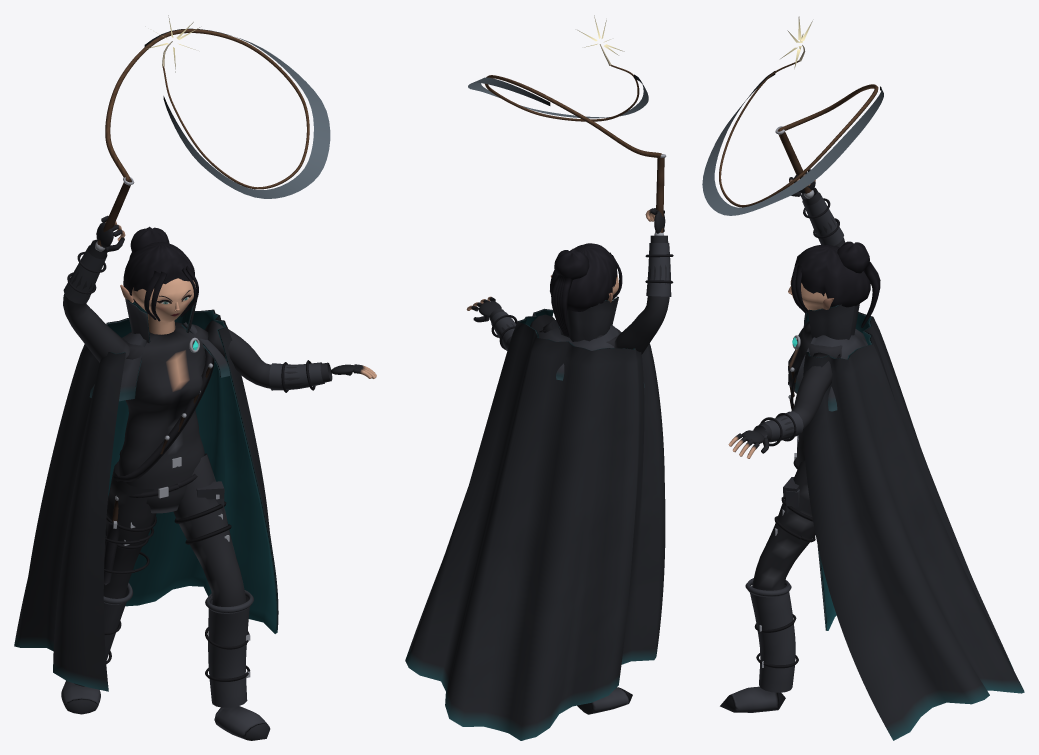
The model's file is rogue.glb.
3 renders of one model, left to right at view 1: azimuth 30°, elevation 25°; view 2: azimuth 150°, elevation 25°; view 3: azimuth 270°, elevation 25°, orthographic. The views are drawn at different scales.
Parts seen in each view (by area): view 1: rogue-body, rogue-fx, rogue-face, rogue-metal; view 2: rogue-body, rogue-fx; view 3: rogue-body, rogue-fx.
Part boxes in pixels (<box>): rogue-body: <box>14,29,376,740</box>; rogue-fx: <box>144,15,330,198</box>; rogue-face: <box>131,278,195,322</box>; rogue-metal: <box>95,177,250,678</box>; rogue-body: <box>405,44,673,740</box>; rogue-fx: <box>468,15,648,118</box>; rogue-body: <box>719,45,1024,740</box>; rogue-fx: <box>702,16,883,215</box>.
Bounding box in the file's own units: 0.65 × 1.67 × 0.7238.
5 materials, 1 textured.
